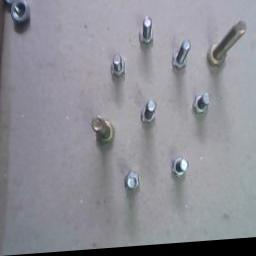Non-corroded-Bolts: (207, 24, 247, 72), (91, 118, 114, 148), (172, 43, 191, 74), (138, 19, 153, 48), (140, 102, 157, 126), (171, 160, 189, 181), (193, 97, 210, 117), (111, 56, 125, 80), (124, 173, 140, 194)
